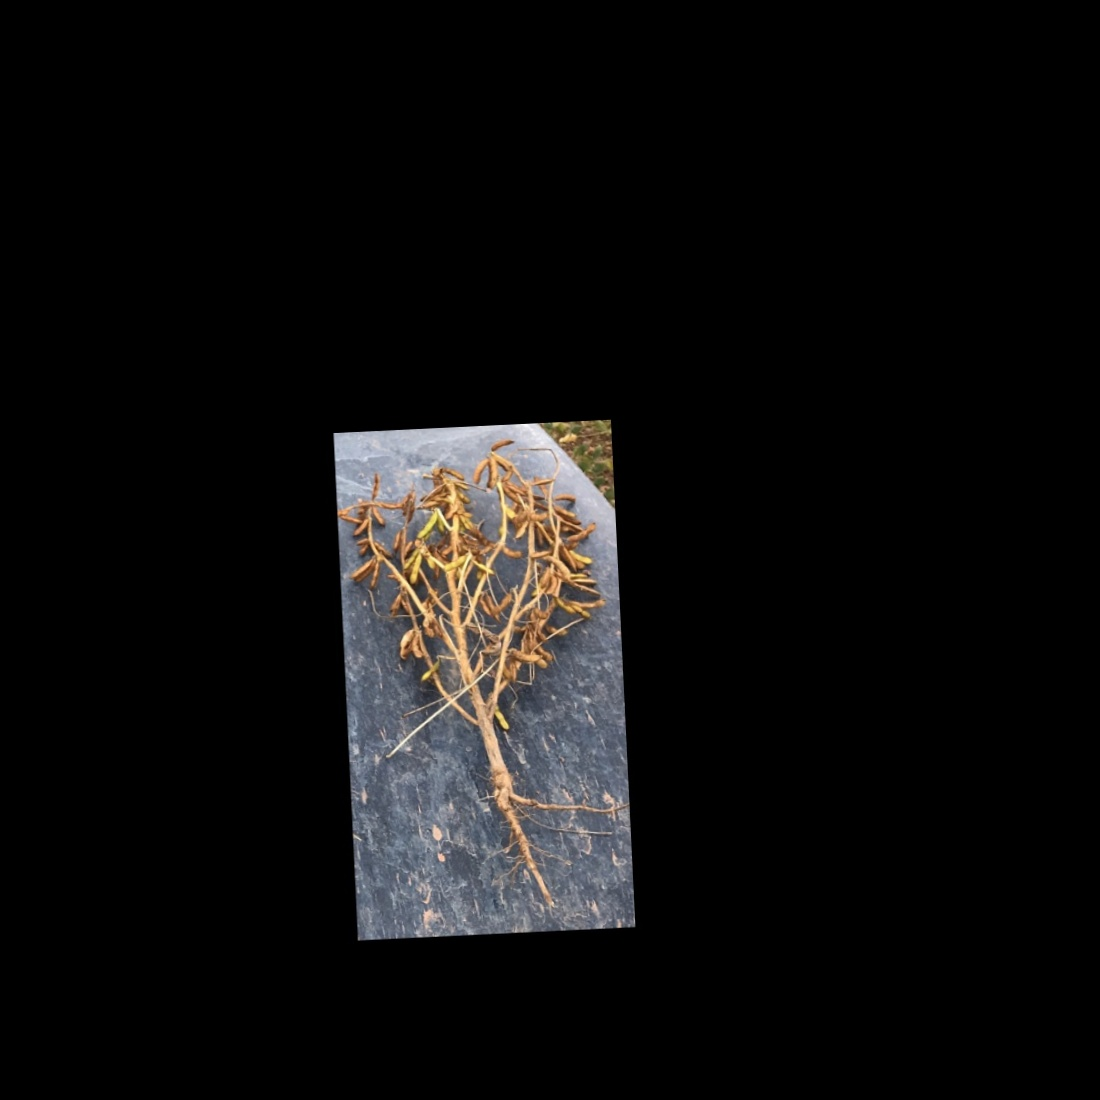pod: (414, 507, 440, 540), (406, 550, 428, 587), (564, 520, 601, 541), (507, 649, 544, 666), (470, 456, 491, 488), (366, 557, 383, 591), (368, 504, 390, 530), (552, 595, 576, 618), (488, 435, 517, 454), (349, 518, 370, 539), (496, 546, 525, 561), (551, 491, 580, 506), (440, 466, 468, 482)
soy: (339, 430, 621, 901)
